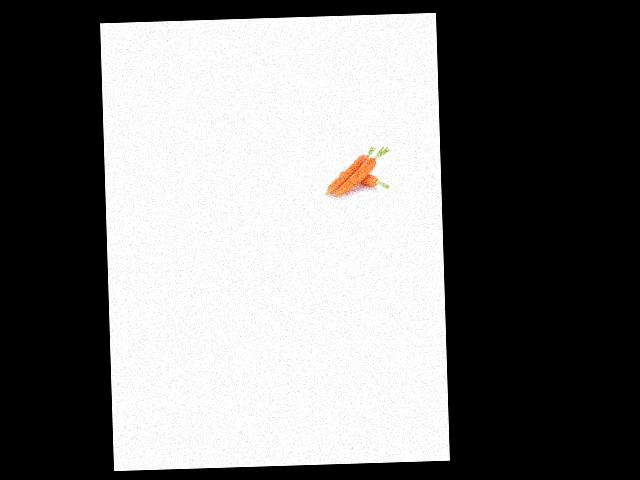carrot: (333, 167, 386, 189)
